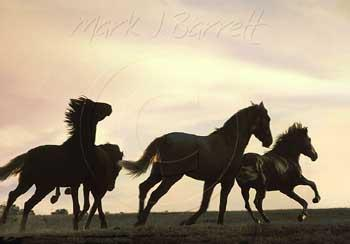horse: (119, 100, 272, 226), (0, 95, 118, 232)
